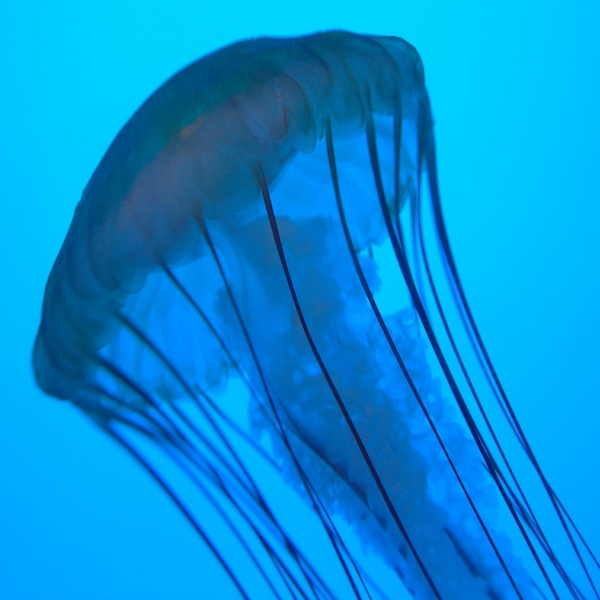Jellyfish: (43, 19, 594, 600)
